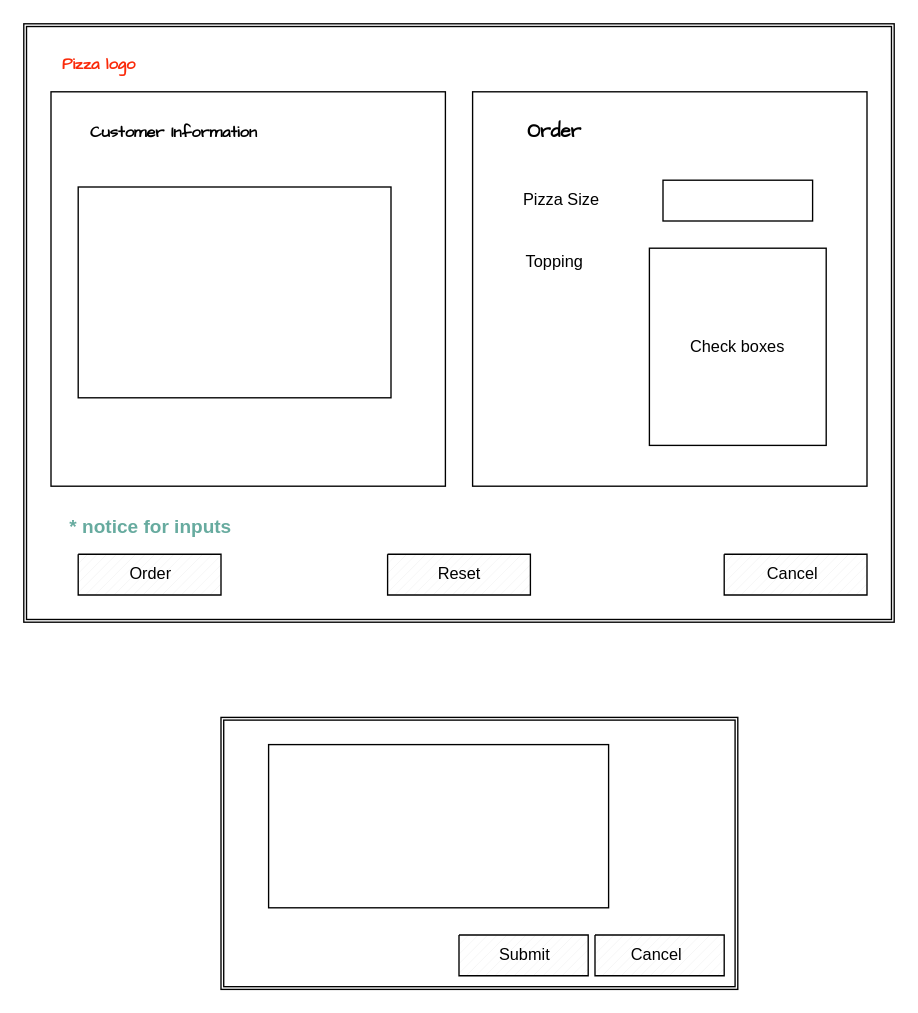
Some shapes in this 918 by 1013 pixel diagram are drawn without their labels. The shapes that lost their labels are listed below. From the top down, each one's box as (x1, y1, x2, y2) in pixels, then its label:
(662, 179, 813, 221): QComboBox
(77, 186, 391, 398): User name and address (QEditLine)
(267, 743, 609, 908): Summary of Order
